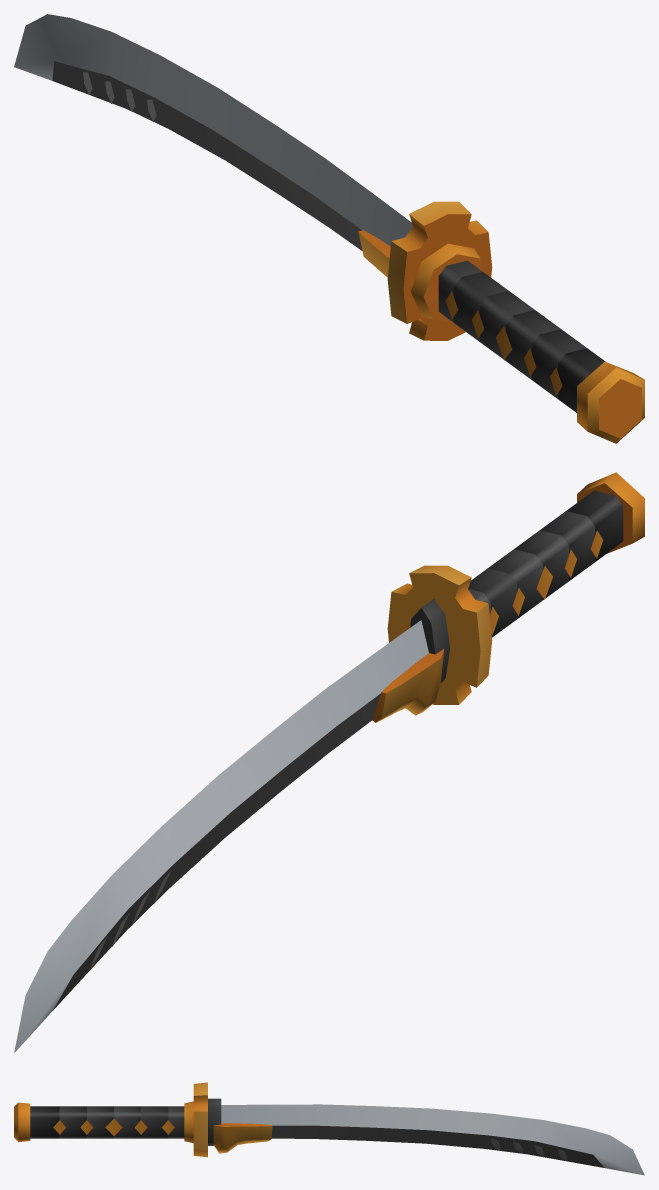
File: Melee_Katana.fbx
The picture shows the model from 3 angles, top to bottom: view 1: azimuth 30°, elevation 25°; view 2: azimuth 150°, elevation 25°; view 3: azimuth 270°, elevation 25°; orthographic projection. The views are drawn at different scales.
Visible parts, largest first — view 1: Melee_Katana; view 2: Melee_Katana; view 3: Melee_Katana.
Part boxes in pixels (box(x1,y1,x2,y2)): Melee_Katana: box(14, 14, 644, 443); Melee_Katana: box(14, 472, 644, 1053); Melee_Katana: box(14, 1082, 644, 1175).
Size of the model in its own units: 0.1131 by 0.2013 by 1.28.
